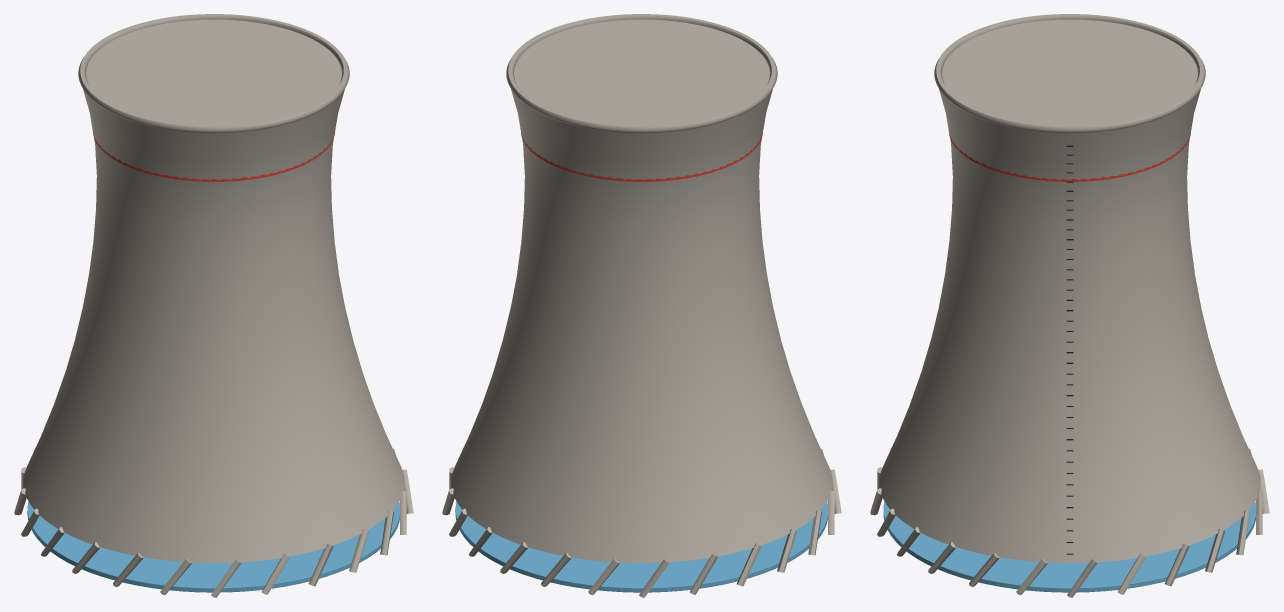
Rendered from cooling_tower.glb.
3 renders of one model, left to right at view 1: azimuth 30°, elevation 25°; view 2: azimuth 150°, elevation 25°; view 3: azimuth 270°, elevation 25°, orthographic.
Parts seen in each view (by area): view 1: cooling_tower; view 2: cooling_tower; view 3: cooling_tower.
Boxes of the visible parts, x1,y1,x2,y2 form: cooling_tower: [14, 14, 413, 597]; cooling_tower: [442, 14, 841, 597]; cooling_tower: [870, 14, 1269, 597].
Size of the model in its own units: 46.05 by 56.39 by 46.05.
1 material, 1 textured.
